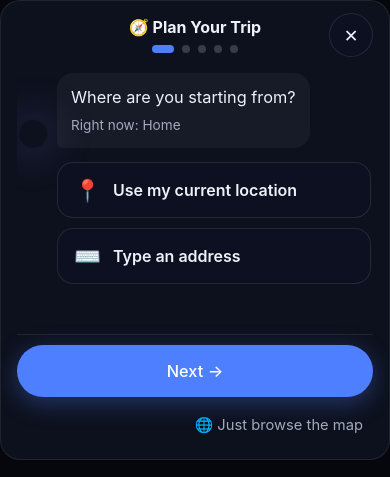
Plan Your Trip wizard › under 10 ratings: hides The usual / Something new and shows only the text box
This screenshot has width=390, height=477.
Click the button "Next →".
click(195, 371)  # box [17,345,373,397]
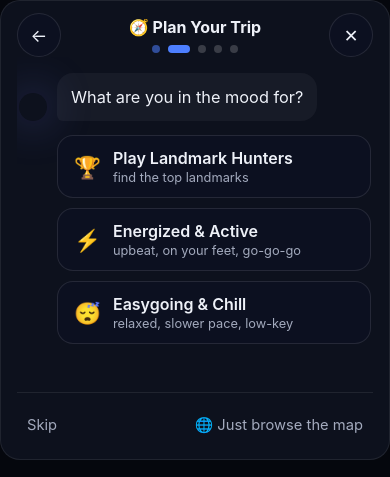
Click the button "😴 Easygoing & Chill relaxed, slower pace, low-key".
click(214, 313)  # box [57,282,371,344]
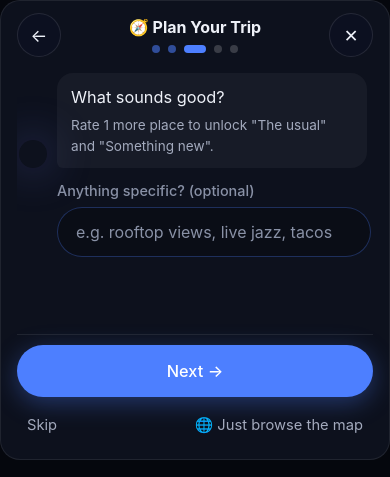
expect the text "What sounds good?" is shown: met, box [71,87,225,107]
expect the field labelled "Anything specific? (optional)" is shown: met, box [57,207,371,257]
expect the button "Next →" is shown: met, box [17,345,373,397]
